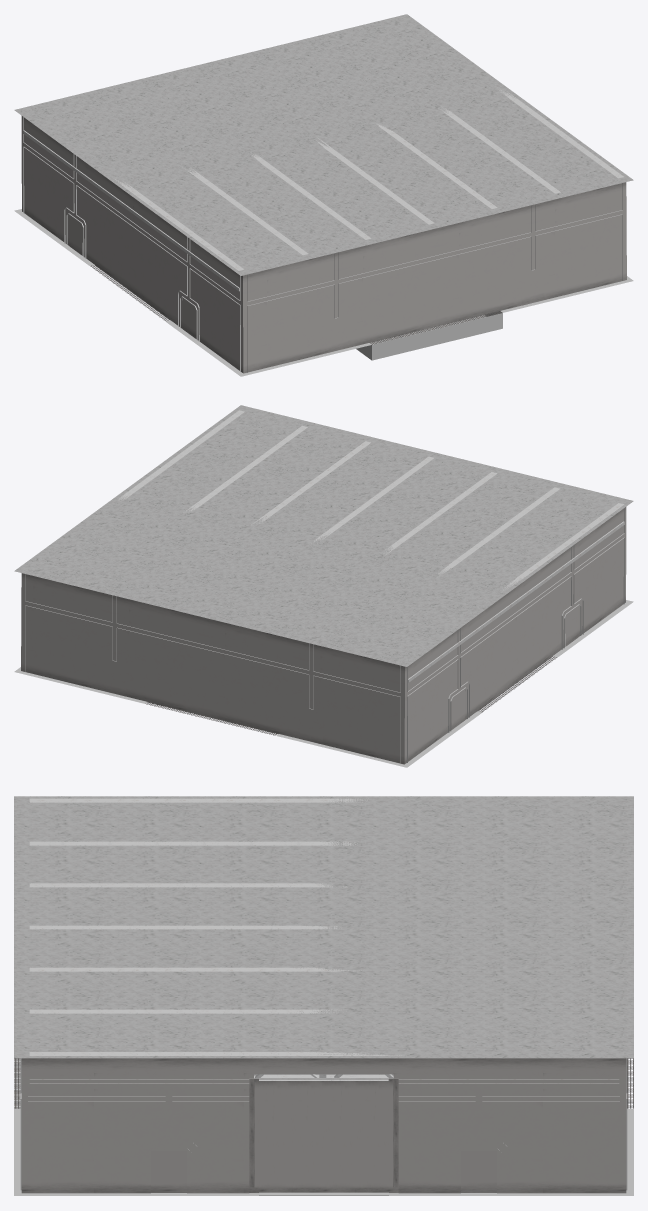
Rendered from m_ext_b_storage.fbx.
The picture shows the model from 3 angles, top to bottom: view 1: azimuth 30°, elevation 25°; view 2: azimuth 150°, elevation 25°; view 3: azimuth 270°, elevation 25°; orthographic projection. The views are drawn at different scales.
Parts seen in each view (by area): view 1: m_ceiling, m_walls, m_overhang, m_floor, m_bars, m_wallPiece_n1, m_wallPiece_n2; view 2: m_ceiling, m_walls, m_overhang, m_bars, m_floor, m_wallPiece_s1, m_wallPiece_s2; view 3: m_ceiling, m_walls, m_gateInWall, m_overhang, m_floor, m_wallPiece_w2, m_wallPiece_w1, m_bars.
Part boxes in pixels (left/top/right/bottom): m_ceiling: left=14, top=14, right=633, bottom=275; m_walls: left=21, top=116, right=626, bottom=373; m_overhang: left=23, top=86, right=623, bottom=291; m_floor: left=14, top=209, right=633, bottom=376; m_bars: left=23, top=117, right=622, bottom=372; m_wallPiece_n1: left=521, top=269, right=544, bottom=305; m_wallPiece_n2: left=325, top=317, right=347, bottom=353; m_ceiling: left=14, top=405, right=633, bottom=666; m_walls: left=21, top=507, right=626, bottom=764; m_overhang: left=118, top=410, right=624, bottom=682; m_bars: left=25, top=508, right=624, bottom=763; m_floor: left=14, top=600, right=633, bottom=767; m_wallPiece_s1: left=103, top=660, right=126, bottom=696; m_wallPiece_s2: left=300, top=708, right=322, bottom=744; m_ceiling: left=14, top=796, right=633, bottom=1058; m_walls: left=21, top=1058, right=626, bottom=1193; m_gateInWall: left=249, top=1078, right=398, bottom=1193; m_overhang: left=29, top=798, right=618, bottom=1083; m_floor: left=14, top=1058, right=633, bottom=1195; m_wallPiece_w2: left=461, top=1151, right=496, bottom=1192; m_wallPiece_w1: left=151, top=1151, right=186, bottom=1192; m_bars: left=20, top=1058, right=627, bottom=1190.
Size of the model in its own units: 3000 by 850 by 3000.
